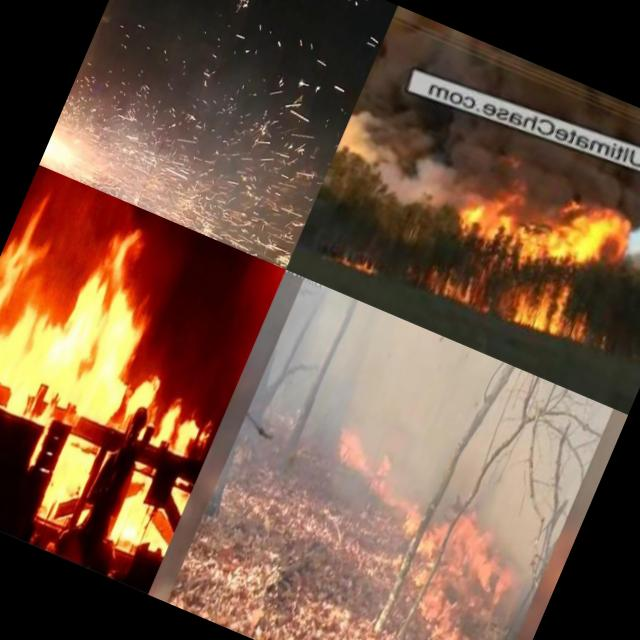fire: (428, 154, 640, 360), (0, 206, 175, 426), (414, 500, 529, 603), (324, 421, 402, 496), (153, 383, 220, 458), (118, 358, 169, 432), (328, 245, 388, 287)
smoke: (325, 100, 485, 229), (487, 125, 640, 228)
